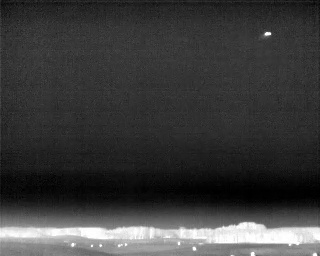AIRPLANE: (261, 28, 274, 40)
